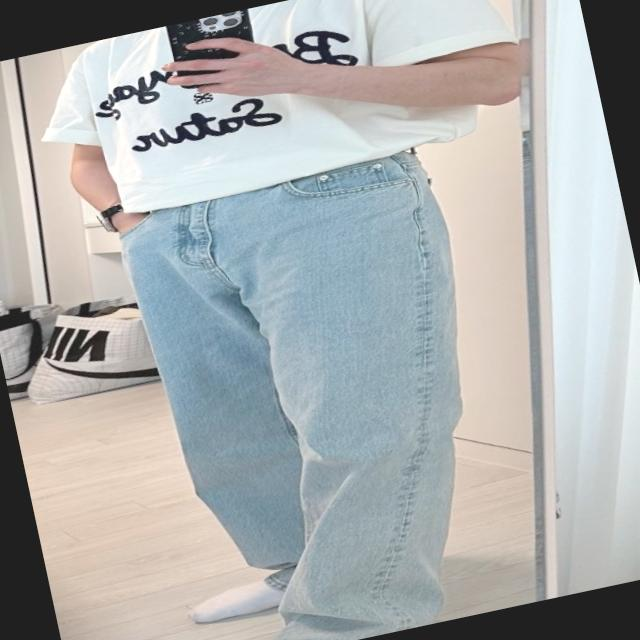denimpants: (111, 144, 527, 640)
shortsleeve: (20, 0, 532, 238)
